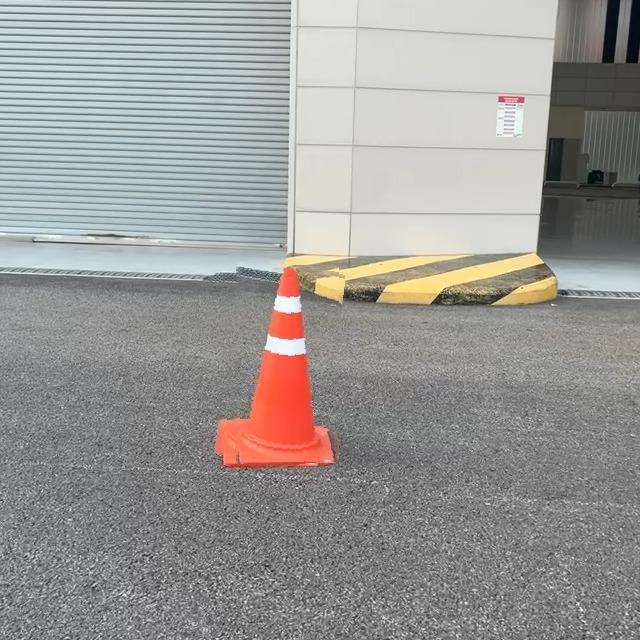fallen_object: (163, 262, 371, 514)
